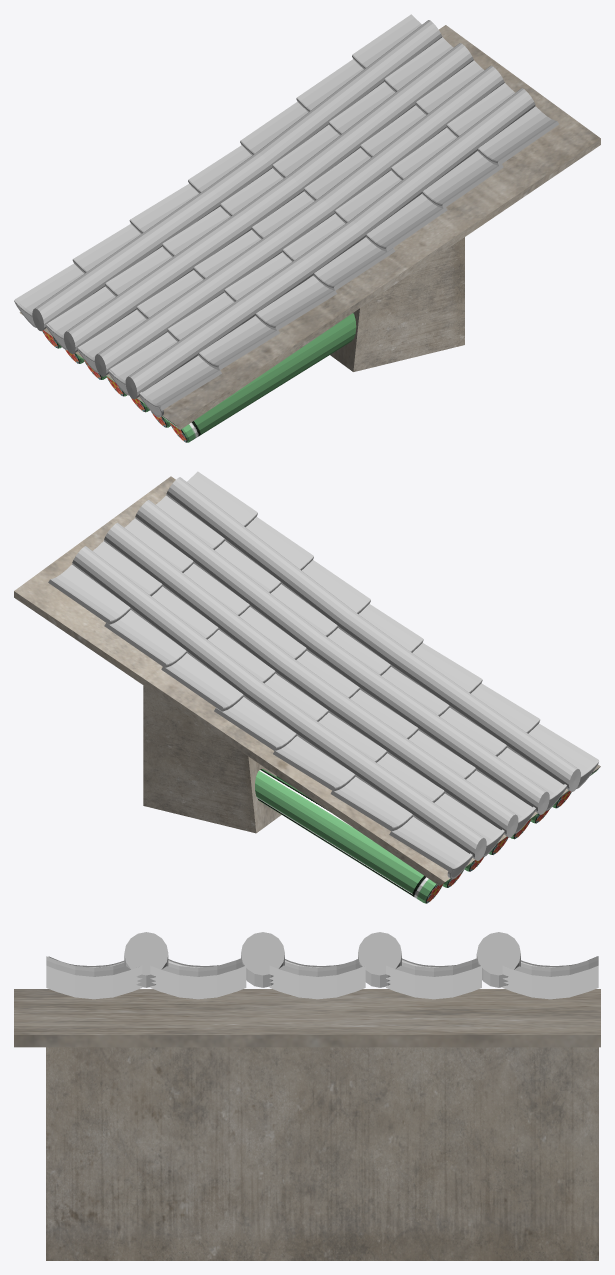
File: SM_Roof_34.fbx
3 views of the same model, one above another, from view 1: azimuth 30°, elevation 25°; view 2: azimuth 150°, elevation 25°; view 3: azimuth 270°, elevation 25° (orthographic). The views are drawn at different scales.
Visible parts, largest first — view 1: SM_Roof_34; view 2: SM_Roof_34; view 3: SM_Roof_34.
Part boxes in pixels (<box>): SM_Roof_34: <box>14,14,600,442</box>; SM_Roof_34: <box>14,471,600,903</box>; SM_Roof_34: <box>14,932,600,1260</box>.
Size of the model in its own units: 291 by 180 by 161.
